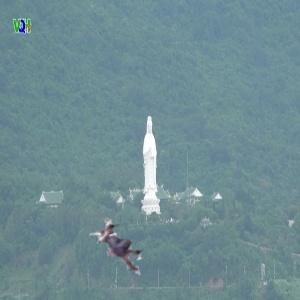drone: (77, 212, 157, 292)
